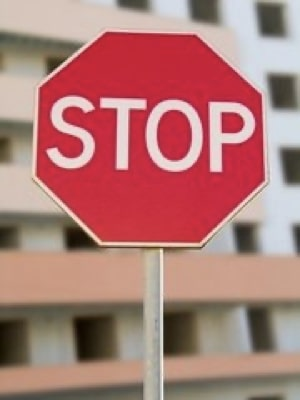StopSign: (30, 26, 273, 251)
